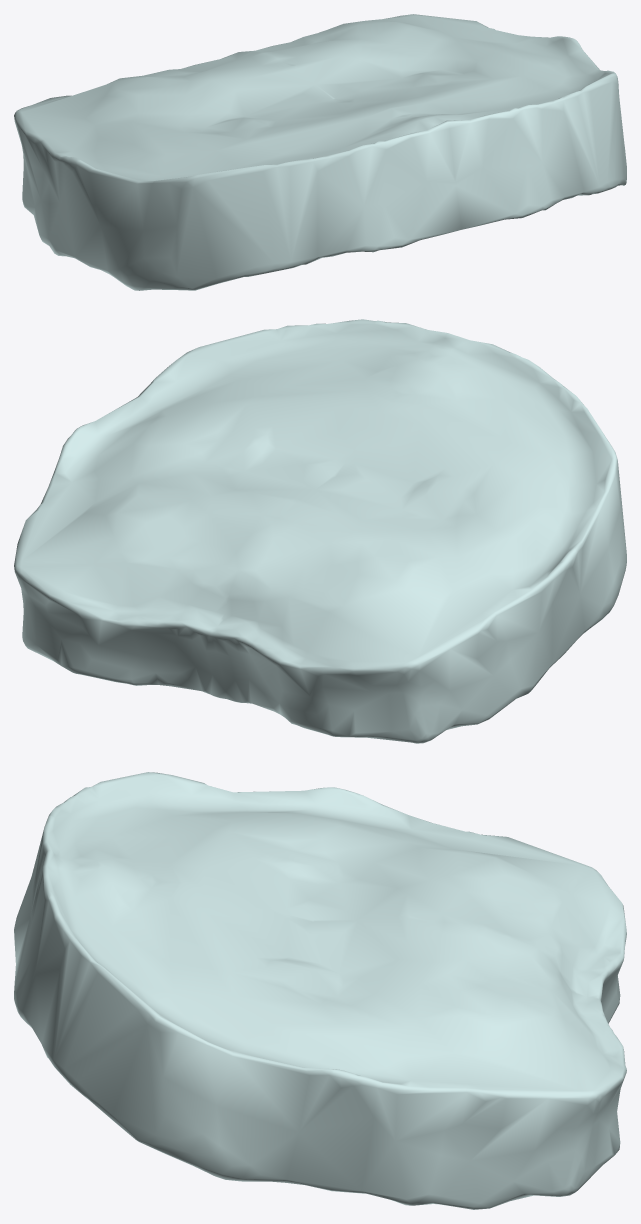
The model's file is Intervertebral_disc_T10-T11_Generated_Mesh_From_X3D.085.glb.
3 views of the same model, one above another, from view 1: azimuth 30°, elevation 25°; view 2: azimuth 150°, elevation 25°; view 3: azimuth 270°, elevation 25° (orthographic). The views are drawn at different scales.
Visible parts, largest first — view 1: Intervertebral_disc_T10-T11_Generated_Mesh_From_X3D.085; view 2: Intervertebral_disc_T10-T11_Generated_Mesh_From_X3D.085; view 3: Intervertebral_disc_T10-T11_Generated_Mesh_From_X3D.085.
Boxes of the visible parts, box(x1,y1,x2,y2) form: Intervertebral_disc_T10-T11_Generated_Mesh_From_X3D.085: box(14, 14, 626, 290); Intervertebral_disc_T10-T11_Generated_Mesh_From_X3D.085: box(14, 319, 626, 743); Intervertebral_disc_T10-T11_Generated_Mesh_From_X3D.085: box(14, 772, 626, 1209).
Bounding box in the file's own units: 0.0406 × 0.0159 × 0.0367.
